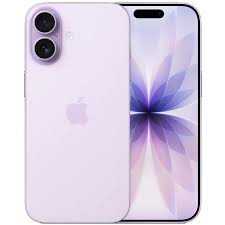IPHONE: (24, 0, 204, 225), (23, 0, 130, 225), (118, 1, 208, 222)
